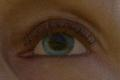eye: (43, 32, 75, 56)
